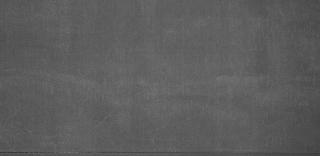welding line: (4, 150, 320, 154)
